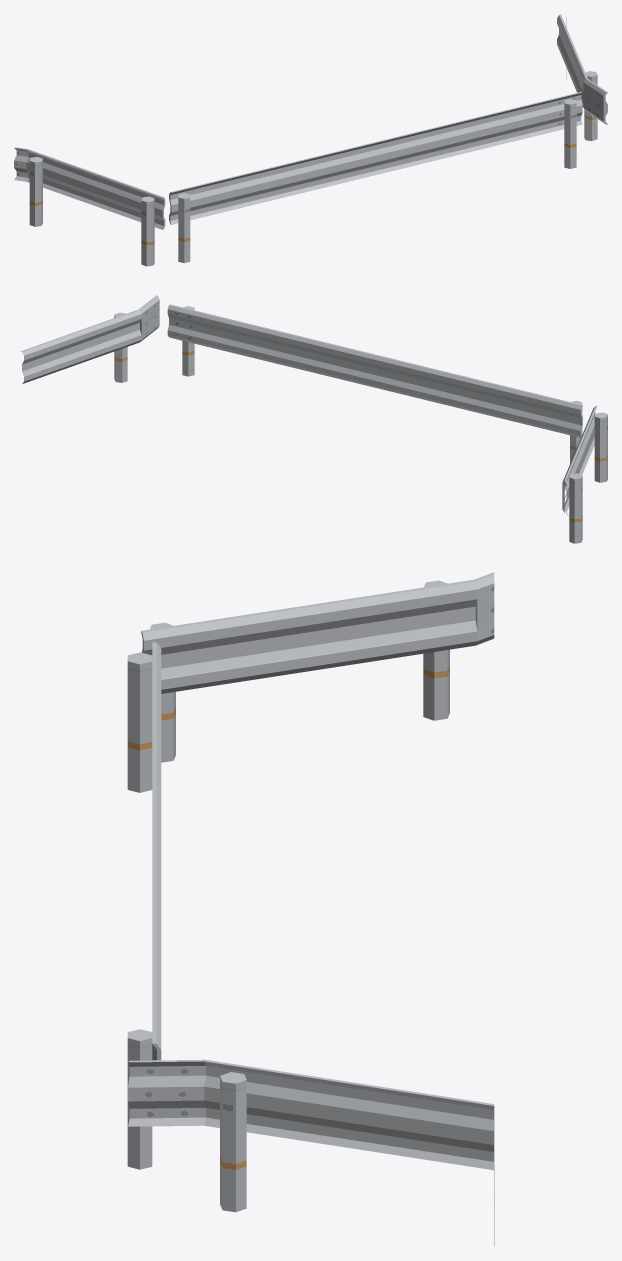
The model's file is kd_stage_135ded_2_11_exterior.glb.
3 views of the same model, one above another, from view 1: azimuth 30°, elevation 25°; view 2: azimuth 150°, elevation 25°; view 3: azimuth 270°, elevation 25° (orthographic). The views are drawn at different scales.
Parts seen in each view (by area): view 1: kd_stage_135ded_2_11_exterior; view 2: kd_stage_135ded_2_11_exterior; view 3: kd_stage_135ded_2_11_exterior.
Part boxes in pixels (x1,y1,x2,y2): kd_stage_135ded_2_11_exterior: (14, 14, 607, 266); kd_stage_135ded_2_11_exterior: (20, 295, 607, 543); kd_stage_135ded_2_11_exterior: (127, 572, 494, 1246).
Size of the model in its own units: 9 by 1.05 by 2.58.
1 material, 1 textured.
